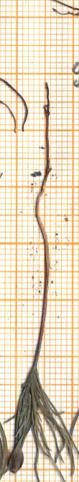flower: (3, 361, 79, 482)
root: (38, 82, 58, 176)
stem: (31, 176, 53, 361)
